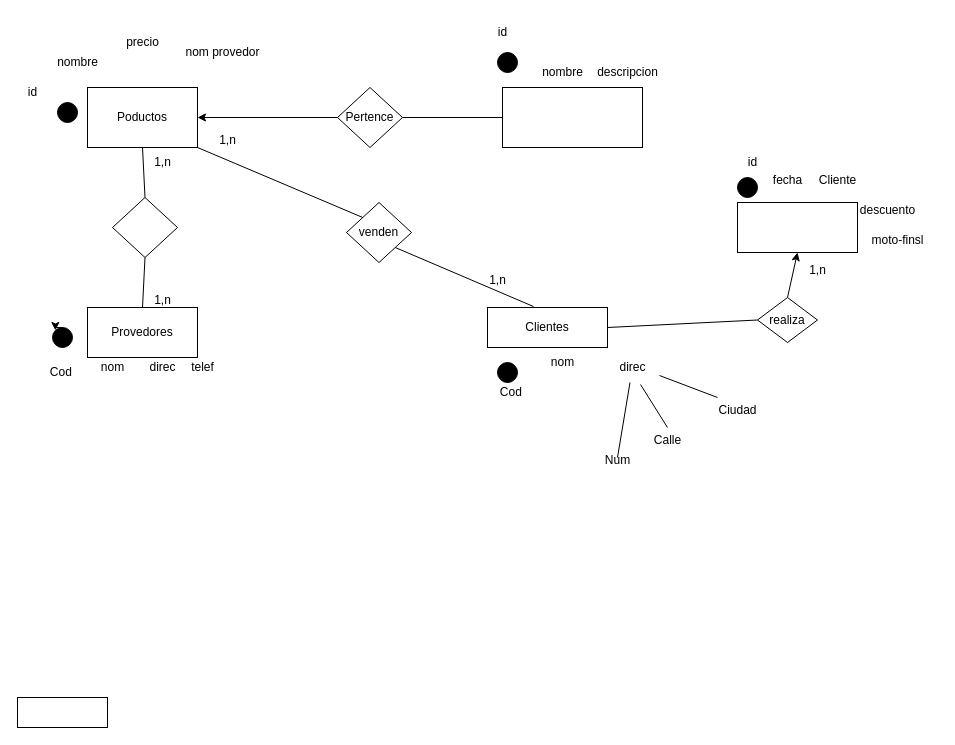
Some shapes in this 955 by 745 pixel diagram are drawn without their labels. Here are the shapes that lost their labels. From the top down, the box of each, then its label:
(502, 86, 642, 148): Categoria
(112, 196, 178, 258): Compra
(736, 202, 858, 252): Pedidos
